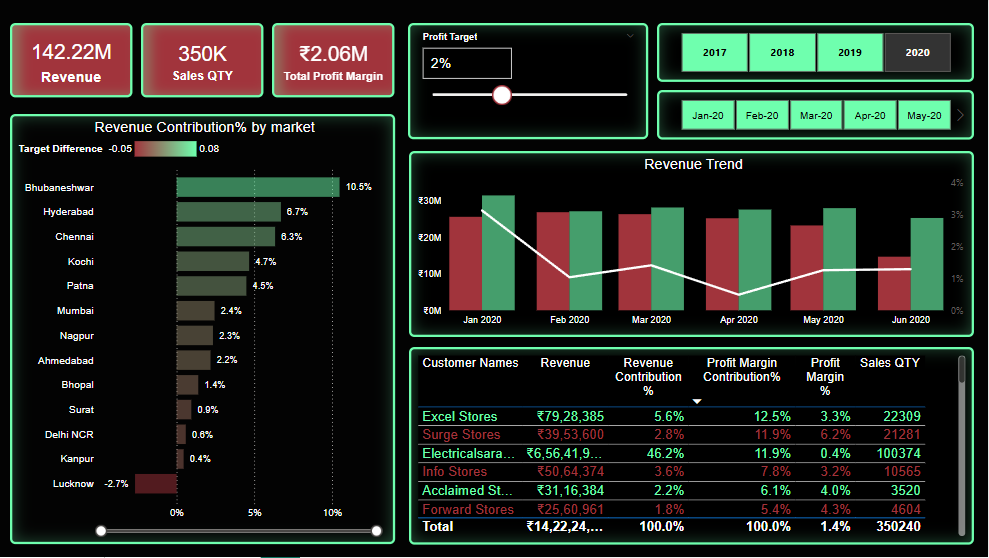

The dashboard page shown, as its layout file describes it:
{"tool":"powerbi","page":{"name":"Performance insights","canvas":[1280,720],"ordinal":1},"visuals":[{"type":"card","fields":{"Values":["Base Measure.Revenue"]},"box":[18.7,31.7,133.9,95],"z":0},{"type":"card","fields":{"Values":["Base Measure.sales qty"]},"box":[191.5,31.7,121,95],"z":1000},{"type":"slicer","fields":{"Values":["sales date.year"]},"box":[867,5.6,336.4,95.3],"z":2000},{"type":"slicer","fields":{"Values":["sales date.cy_date"]},"box":[852.1,100.9,427.9,95.3],"z":3000},{"type":"tableEx","title":"Top 5 Customers","fields":{"Values":["sales customers.custmer_name","Base Measure.Revenue","Base Measure.Revenue Contribution%","Base Measure.Profit Margin Contribution%","Base Measure.Profit Margin %"]},"box":[532.6,448.5,715.7,270.9],"z":4000},{"type":"lineClusteredColumnComboChart","title":"Revenue Trend","fields":{"Category":["sales date.cy_date"],"Y":["Base Measure.Revenue","Base Measure.Revenue LY"],"Y2":["Base Measure.Profit Margin %"]},"box":[532.6,196.2,715.7,239.2],"z":5000},{"type":"card","fields":{"Values":["Base Measure.Total Profit Margin"]},"box":[351.4,31.7,138.2,95],"z":6000},{"type":"barChart","title":"Revenue Contribution%  by market","fields":{"Category":["sales markets.markets_name","sales markets.zone","sales customers.custmer_name","sales products.product_code"],"Y":["Base Measure.Profit Margin %"]},"box":[18.7,151.4,497.1,568.1],"z":7000},{"type":"slicer","fields":{"Values":["Profit margin.Profit margin"]},"box":[532.6,5.6,269.1,160.7],"z":8000}]}

Visuals, with their boxes in screenshot pixels (x1, y1, x2, y2), scaled from the page's 1280x720 canvas onto the 989x558 screenshot:
card - Base Measure.Revenue: 14 25 118 98
card - Base Measure.sales qty: 148 25 241 98
slicer - sales date.year: 670 4 930 78
slicer - sales date.cy_date: 658 78 988 152
"Top 5 Customers" tableEx: 412 348 965 557
"Revenue Trend" lineClusteredColumnComboChart: 412 152 965 337
card - Base Measure.Total Profit Margin: 272 25 378 98
"Revenue Contribution%  by market" barChart: 14 117 399 557
slicer - Profit margin.Profit margin: 412 4 619 129
